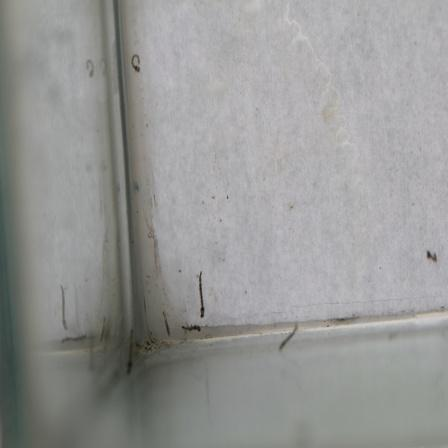Jentik-Nyamuk: (194, 266, 212, 321), (178, 320, 205, 337), (127, 50, 145, 75)
